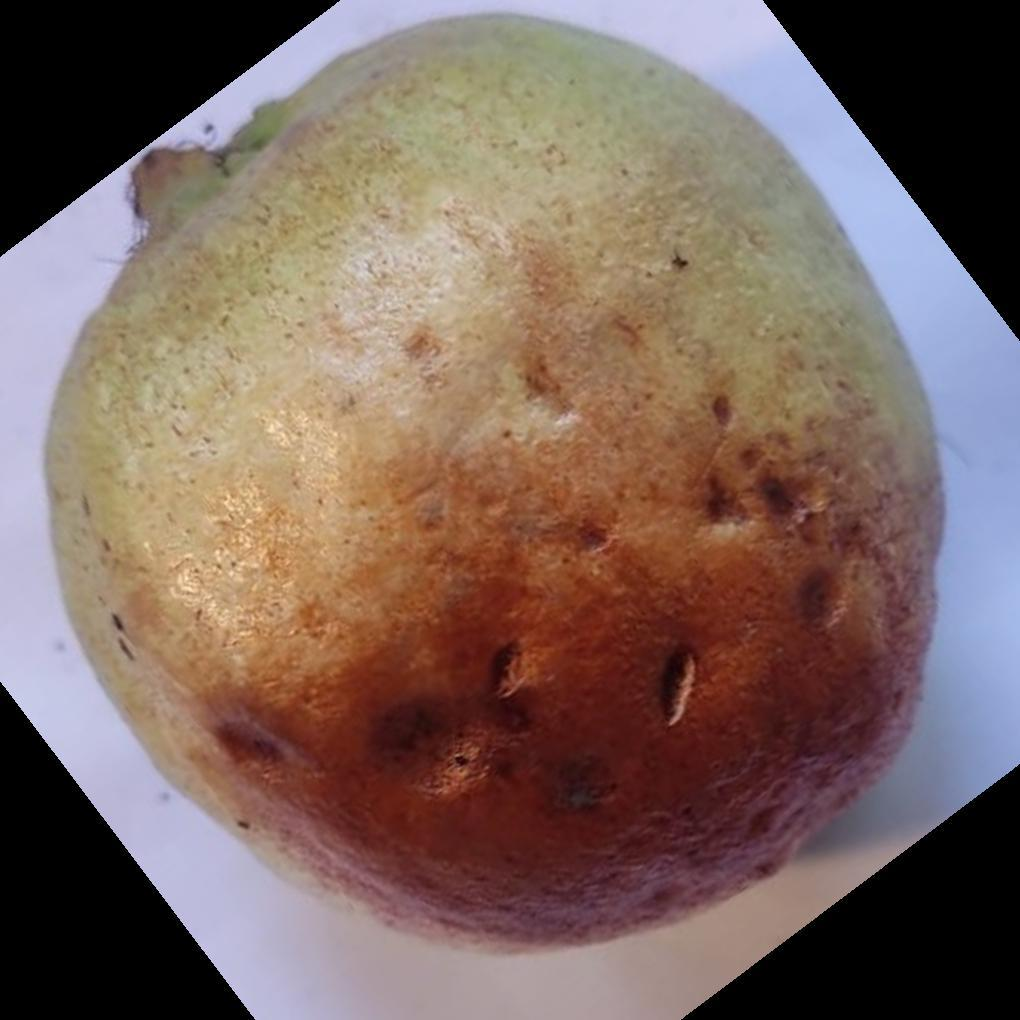FreshOrange: (40, 14, 947, 962)
